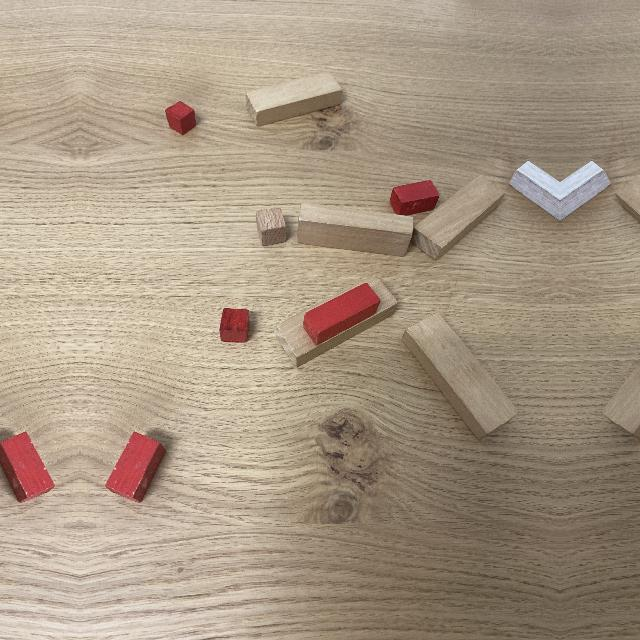block: (508, 159, 560, 221), (560, 159, 612, 221)
cube: (256, 206, 287, 247)
jenga: (401, 312, 519, 439), (276, 275, 398, 367), (410, 174, 506, 262), (298, 203, 413, 257), (247, 72, 343, 126), (601, 364, 640, 438)
red block: (302, 281, 380, 345), (105, 430, 166, 503), (0, 430, 55, 503), (389, 180, 440, 215)
red cube: (165, 101, 197, 135), (220, 308, 250, 342)
